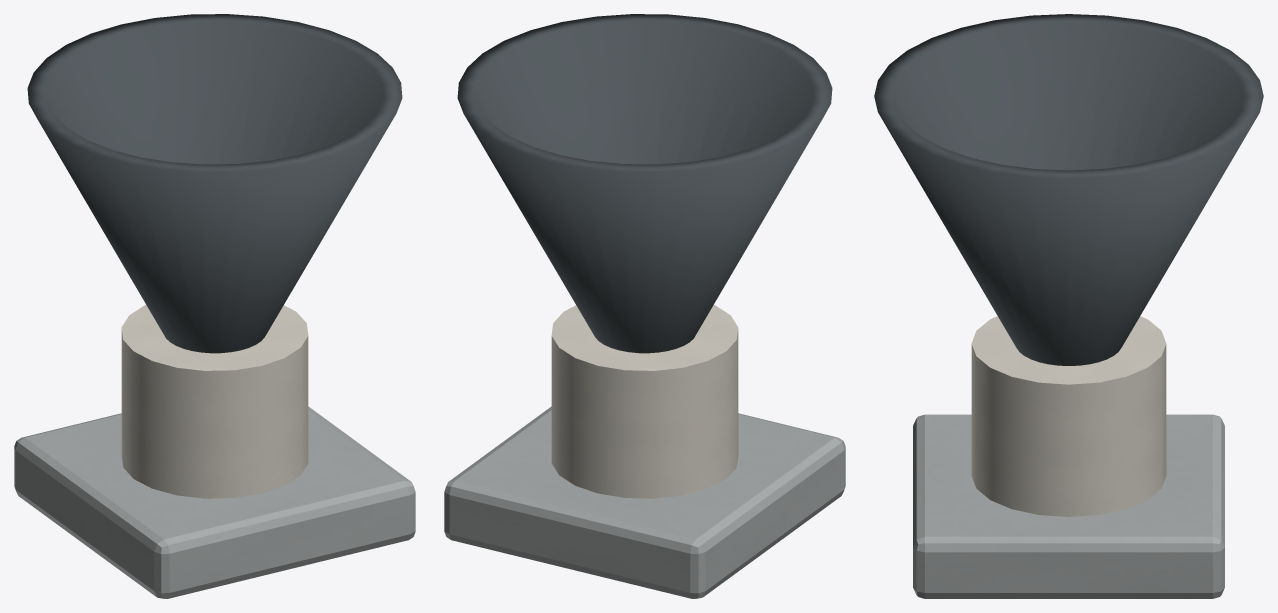
File: small_correction_thruster.glb
The picture shows the model from 3 angles, left to right: view 1: azimuth 30°, elevation 25°; view 2: azimuth 150°, elevation 25°; view 3: azimuth 270°, elevation 25°; orthographic projection. The views are drawn at different scales.
Parts seen in each view (by area): view 1: NozzleBell, Mount.001, FeedHousing; view 2: NozzleBell, Mount.001, FeedHousing; view 3: NozzleBell, Mount.001, FeedHousing.
Part boxes in pixels (box(x1,y1,x2,y2)): NozzleBell: box(27, 14, 402, 353); Mount.001: box(14, 406, 415, 598); FeedHousing: box(121, 305, 308, 498); NozzleBell: box(457, 14, 832, 353); Mount.001: box(444, 406, 845, 598); FeedHousing: box(551, 305, 738, 498); NozzleBell: box(874, 14, 1263, 365); Mount.001: box(913, 414, 1224, 598); FeedHousing: box(971, 316, 1166, 516).
Size of the model in its own units: 0.4 by 0.5 by 0.4.
3 materials, 2 textured.
